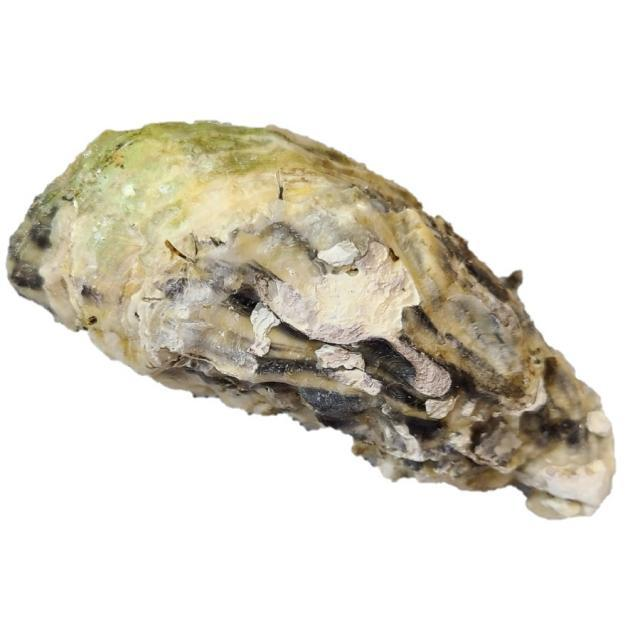Oyster- Indeterminate: (2, 116, 620, 530)
